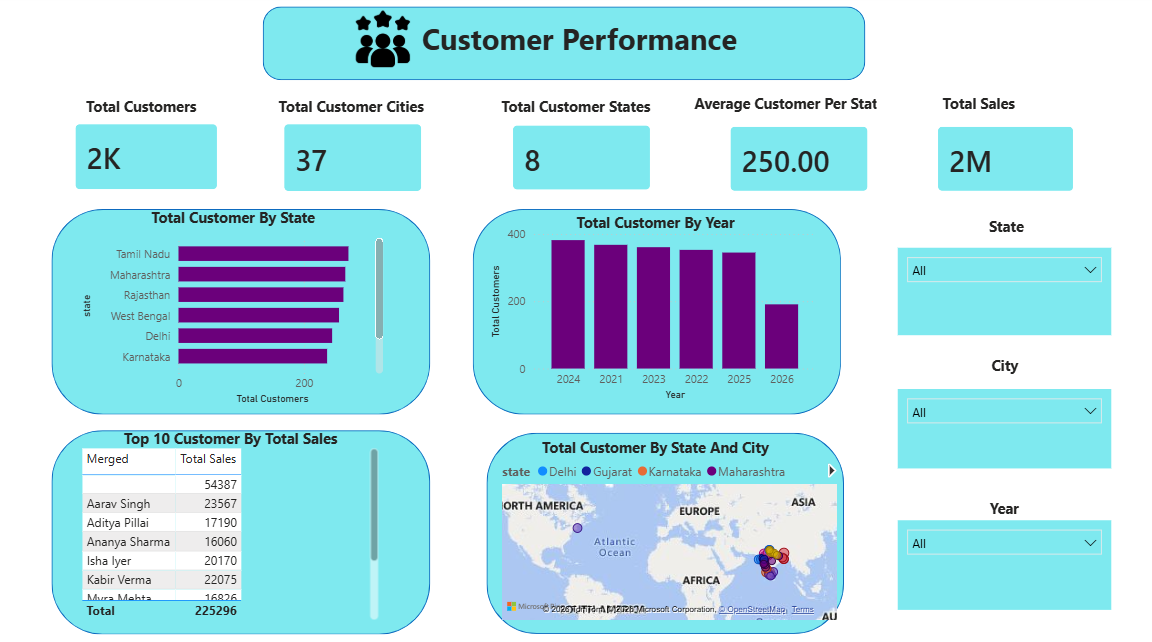

Layout of this report page (visuals, bound fields, positions):
{"tool":"powerbi","page":{"name":"Customer Performance","canvas":[1280,720],"ordinal":3},"visuals":[{"type":"shape","box":[289.5,13.7,661.4,81],"z":0},{"type":"textbox","box":[444.6,22,385.6,65.9],"z":1000},{"type":"shape","box":[57.1,235.7,415.7,225.7],"z":2000},{"type":"shape","box":[57.1,478.6,415.7,224.3],"z":3000},{"type":"shape","box":[520,235.7,404.3,225.7],"z":4000},{"type":"shape","box":[535.7,481.4,392.5,220.9],"z":5000},{"type":"cardVisual","fields":{"Data":["All Measures.Total Customers"]},"box":[67.1,125.7,189.4,105.7],"z":6000},{"type":"cardVisual","fields":{"Data":["All Measures.Total Customer States"]},"box":[547.1,127.1,184.3,104.3],"z":7000},{"type":"cardVisual","fields":{"Data":["All Measures.Average Customers per State"]},"box":[785.7,128.6,184.3,104.3],"z":8000},{"type":"cardVisual","fields":{"Data":["All Measures.Total Sales"]},"box":[1014.3,128.6,182.5,104.3],"z":9000},{"type":"barChart","fields":{"Category":["customers.state"],"Y":["All Measures.Total Customers"]},"box":[86.4,255.2,340.3,200.3],"z":10000},{"type":"tableEx","fields":{"Values":["customers.Merged","All Measures.Total Sales"]},"box":[85.1,494,336.2,197.6],"z":11000},{"type":"columnChart","fields":{"Category":["customers.Year"],"Y":["All Measures.Total Customers"]},"box":[535.7,250,367.1,201.4],"z":12000},{"type":"map","fields":{"Category":["customers.city"],"Series":["customers.state"],"Size":["All Measures.Total Customers"]},"box":[547.1,504.3,377.1,188.6],"z":13000},{"type":"slicer","fields":{"Values":["customers.city"]},"box":[987.1,434.3,234.3,87.1],"z":14000},{"type":"slicer","fields":{"Values":["customers.Year"]},"box":[987.1,577.1,234.3,98.6],"z":15000},{"type":"slicer","fields":{"Values":["customers.state"]},"box":[987.1,278.6,234.3,95.7],"z":16000},{"type":"cardVisual","fields":{"Data":["All Measures.Total Customer Cities"]},"box":[295.7,125.7,184.3,107.1],"z":17000},{"type":"textbox","box":[90,107.1,144.3,37.1],"z":18000},{"type":"textbox","box":[275.7,107.1,221.4,38.6],"z":19000},{"type":"textbox","box":[535.7,107.1,195.7,42.9],"z":20000},{"type":"textbox","box":[742.9,104.3,251.4,40],"z":21000},{"type":"textbox","box":[962.9,104.3,224.3,38.6],"z":22000},{"type":"textbox","box":[1038.6,238.6,134.3,42.9],"z":23000},{"type":"textbox","box":[1047.1,391.4,114.3,42.9],"z":24000},{"type":"textbox","box":[1058.6,548.6,91.4,42.9],"z":25000},{"type":"textbox","box":[142.9,228.6,228.6,42.9],"z":26000},{"type":"textbox","box":[610,234.3,220,42.9],"z":27000},{"type":"textbox","box":[124.3,471.4,258.6,45.7],"z":28000},{"type":"textbox","box":[575.7,481.4,288.6,42.9],"z":29000},{"type":"image","box":[345.8,13.7,150.9,71.4],"z":30000}]}

Visuals, with their boxes in screenshot pixels (x1, y1, x2, y2), scaled from the page's 1280x720 canvas onto the 1152x642 screenshot:
shape: l=261, t=12, r=856, b=84
textbox: l=400, t=20, r=747, b=78
shape: l=51, t=210, r=426, b=411
shape: l=51, t=427, r=426, b=627
shape: l=468, t=210, r=832, b=411
shape: l=482, t=429, r=835, b=626
cardVisual - All Measures.Total Customers: l=60, t=112, r=231, b=206
cardVisual - All Measures.Total Customer States: l=492, t=113, r=658, b=206
cardVisual - All Measures.Average Customers per State: l=707, t=115, r=873, b=208
cardVisual - All Measures.Total Sales: l=913, t=115, r=1077, b=208
barChart - customers.state x All Measures.Total Customers: l=78, t=228, r=384, b=406
tableEx - customers.Merged x All Measures.Total Sales: l=77, t=440, r=379, b=617
columnChart - customers.Year x All Measures.Total Customers: l=482, t=223, r=813, b=402
map - customers.city x customers.state: l=492, t=450, r=832, b=618
slicer - customers.city: l=888, t=387, r=1099, b=465
slicer - customers.Year: l=888, t=515, r=1099, b=602
slicer - customers.state: l=888, t=248, r=1099, b=334
cardVisual - All Measures.Total Customer Cities: l=266, t=112, r=432, b=208
textbox: l=81, t=95, r=211, b=129
textbox: l=248, t=95, r=447, b=130
textbox: l=482, t=95, r=658, b=134
textbox: l=669, t=93, r=895, b=129
textbox: l=867, t=93, r=1068, b=127
textbox: l=935, t=213, r=1056, b=251
textbox: l=942, t=349, r=1045, b=387
textbox: l=953, t=489, r=1035, b=527
textbox: l=129, t=204, r=334, b=242
textbox: l=549, t=209, r=747, b=247
textbox: l=112, t=420, r=345, b=461
textbox: l=518, t=429, r=778, b=468
image: l=311, t=12, r=447, b=76
